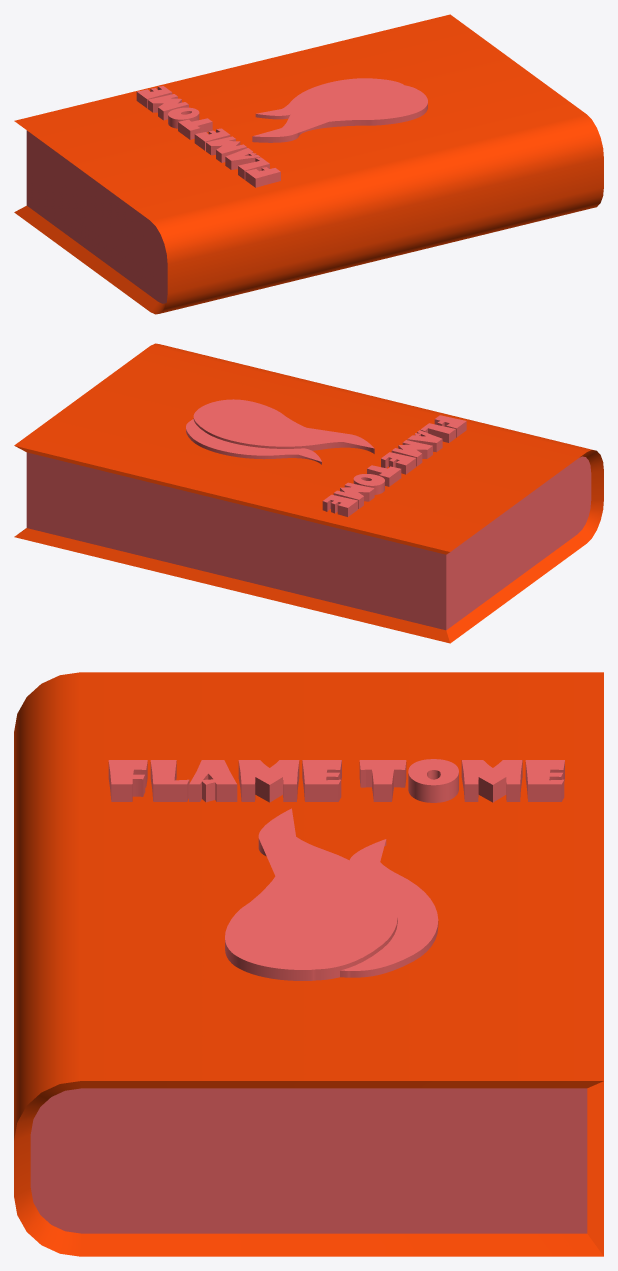
Rendered from flame tome.fbx.
3 renders of one model, top to bottom at view 1: azimuth 30°, elevation 25°; view 2: azimuth 150°, elevation 25°; view 3: azimuth 270°, elevation 25°, orthographic. The views are drawn at different scales.
Visible parts, largest first — view 1: Cube, Cap_2_2, Cap_2_3, Extrude, Cap_2, Extrude_1; view 2: Cube, Cap_2_2, Cap_2_3, Extrude, Cap_2, Extrude_1, Extrude_2; view 3: Cube, Cap_2_2, Extrude, Cap_2_3, Cap_2, Extrude_1.
Boxes of the visible parts, x1=… form: Cube: x1=14, y1=14, x2=603, y2=314; Cap_2_2: x1=253, y1=83, x2=427, y2=136; Cap_2_3: x1=137, y1=86, x2=280, y2=178; Extrude: x1=136, y1=87, x2=280, y2=187; Cap_2: x1=256, y1=78, x2=403, y2=115; Extrude_1: x1=252, y1=103, x2=427, y2=142; Cube: x1=14, y1=343, x2=603, y2=643; Cap_2_2: x1=193, y1=399, x2=374, y2=448; Cap_2_3: x1=323, y1=415, x2=466, y2=507; Extrude: x1=322, y1=419, x2=466, y2=516; Cap_2: x1=186, y1=419, x2=321, y2=461; Extrude_1: x1=193, y1=418, x2=374, y2=453; Extrude_2: x1=186, y1=429, x2=321, y2=464; Cube: x1=14, y1=672, x2=603, y2=1256; Cap_2_2: x1=225, y1=808, x2=397, y2=969; Extrude: x1=108, y1=760, x2=564, y2=802; Cap_2_3: x1=108, y1=759, x2=564, y2=785; Cap_2: x1=340, y1=839, x2=438, y2=970; Extrude_1: x1=225, y1=838, x2=397, y2=980.
Size of the model in its own units: 295 by 64.99 by 180.
